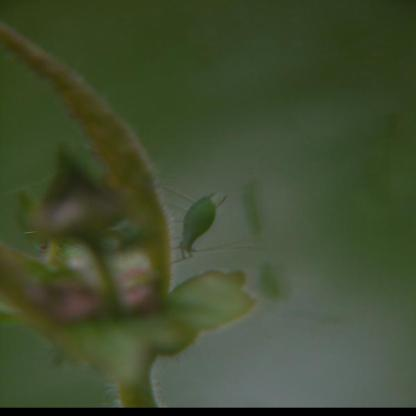aphid: (154, 183, 234, 269)
